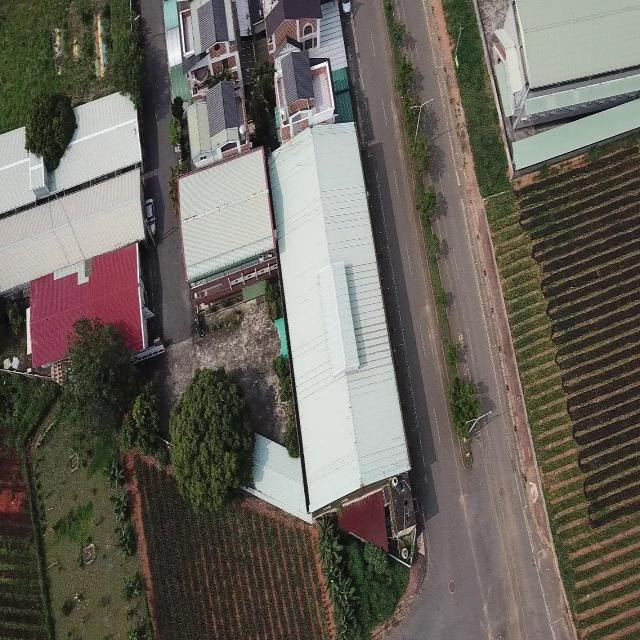car: (144, 199, 160, 241)
